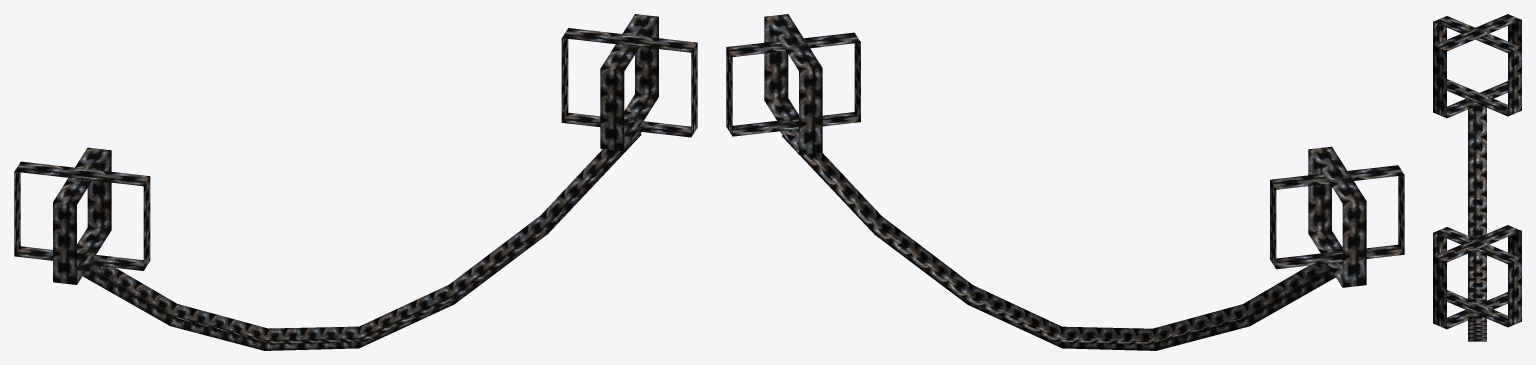
The model's file is environment_common_tielian_001_a.FBX.
3 renders of one model, left to right at view 1: azimuth 30°, elevation 25°; view 2: azimuth 150°, elevation 25°; view 3: azimuth 270°, elevation 25°, orthographic. The views are drawn at different scales.
Parts seen in each view (by area): view 1: environment_common_tielian_001_a; view 2: environment_common_tielian_001_a; view 3: environment_common_tielian_001_a.
Boxes of the visible parts, x1,y1,x2,y2 form: environment_common_tielian_001_a: [14, 14, 697, 350]; environment_common_tielian_001_a: [726, 14, 1404, 350]; environment_common_tielian_001_a: [1433, 14, 1521, 341].
Bounding box in the file's own units: 512 × 184 × 77.21.
